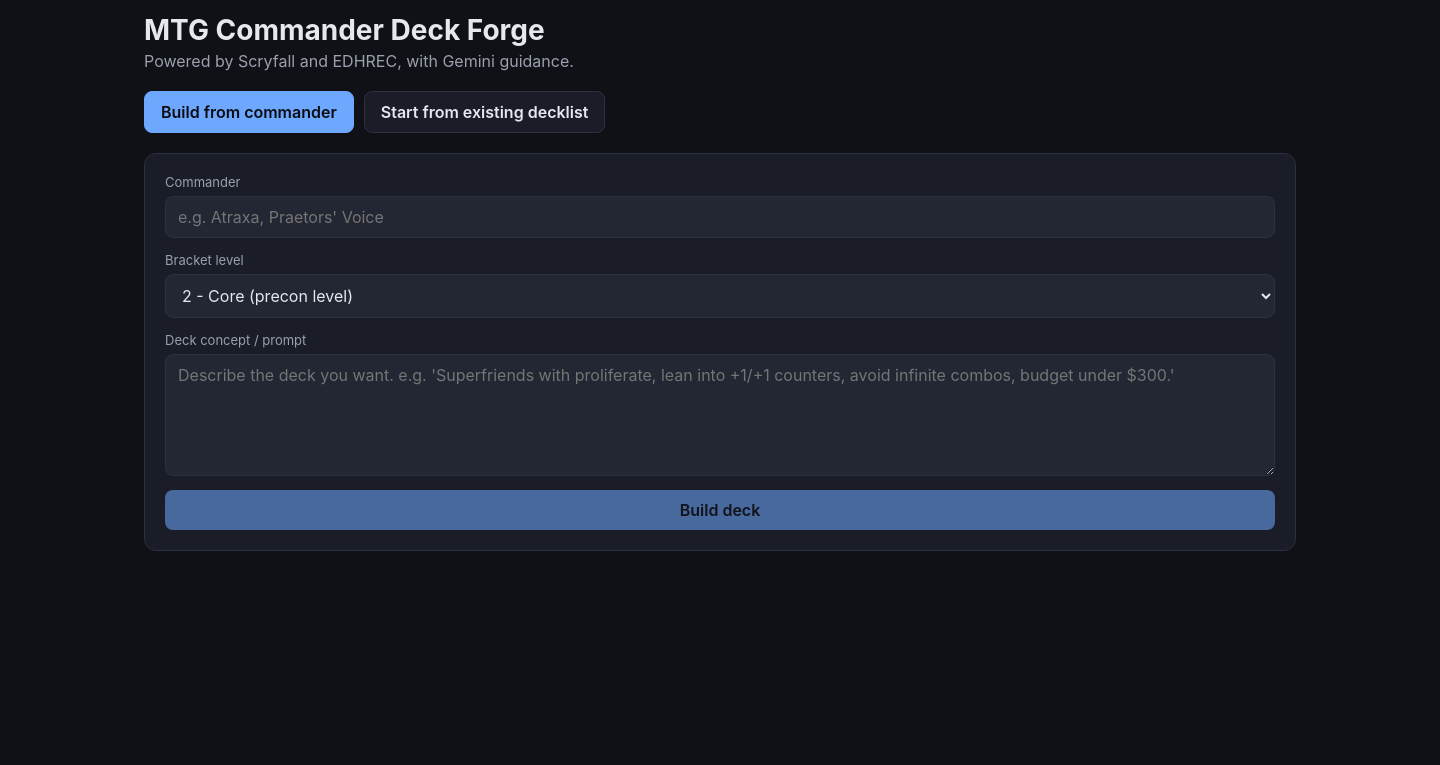
Test case: App › builds a deck and then revamps it, incrementing the version
Expected: the text "Powered by Scryfall and EDHREC, with Gemini guidance." is shown, 144,51 -> 574,71
In the dropdown labelled "Commander": (720, 217) 165,196 -> 1275,238, type "Atraxa"
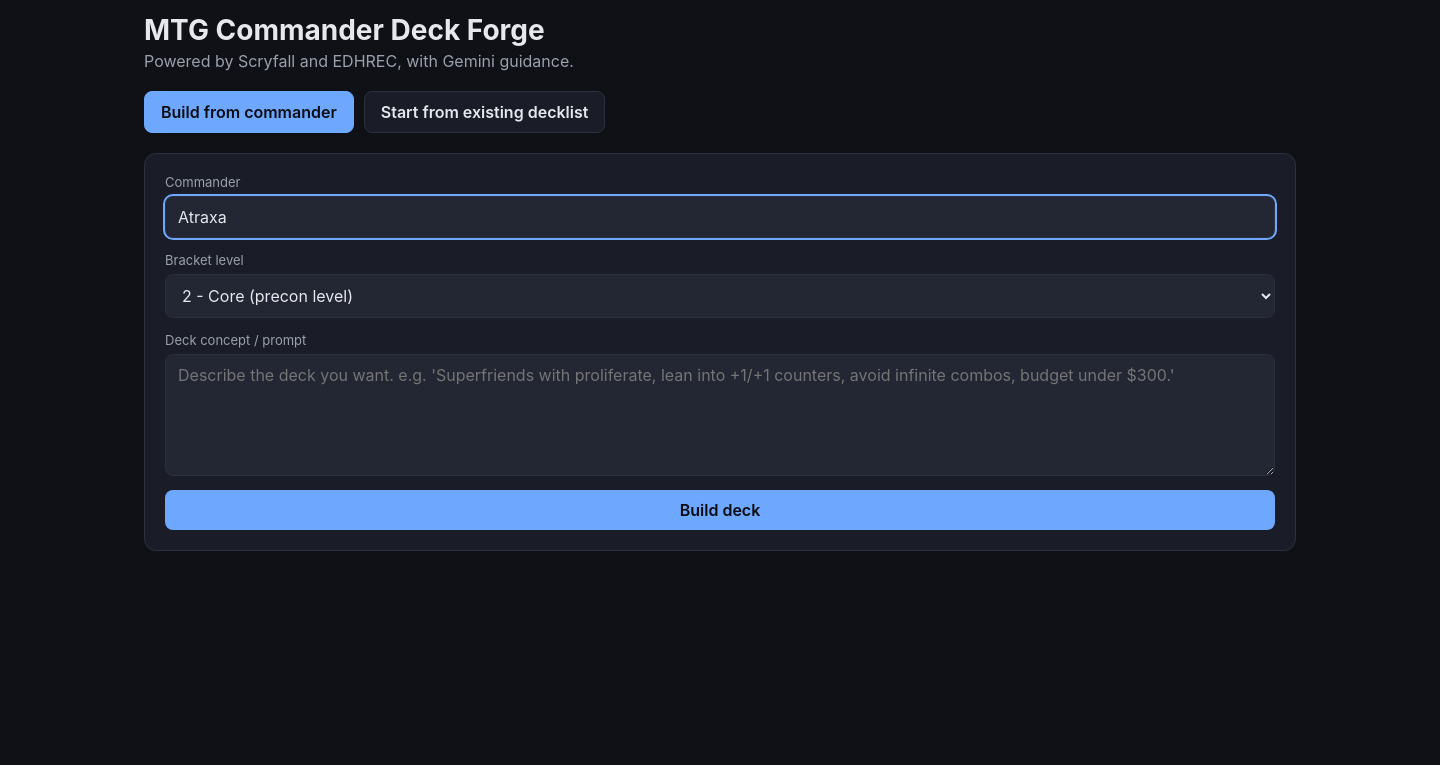
In the text box labelled "Deck concept / prompt": (720, 415) 165,354 -> 1275,476, type "proliferate"
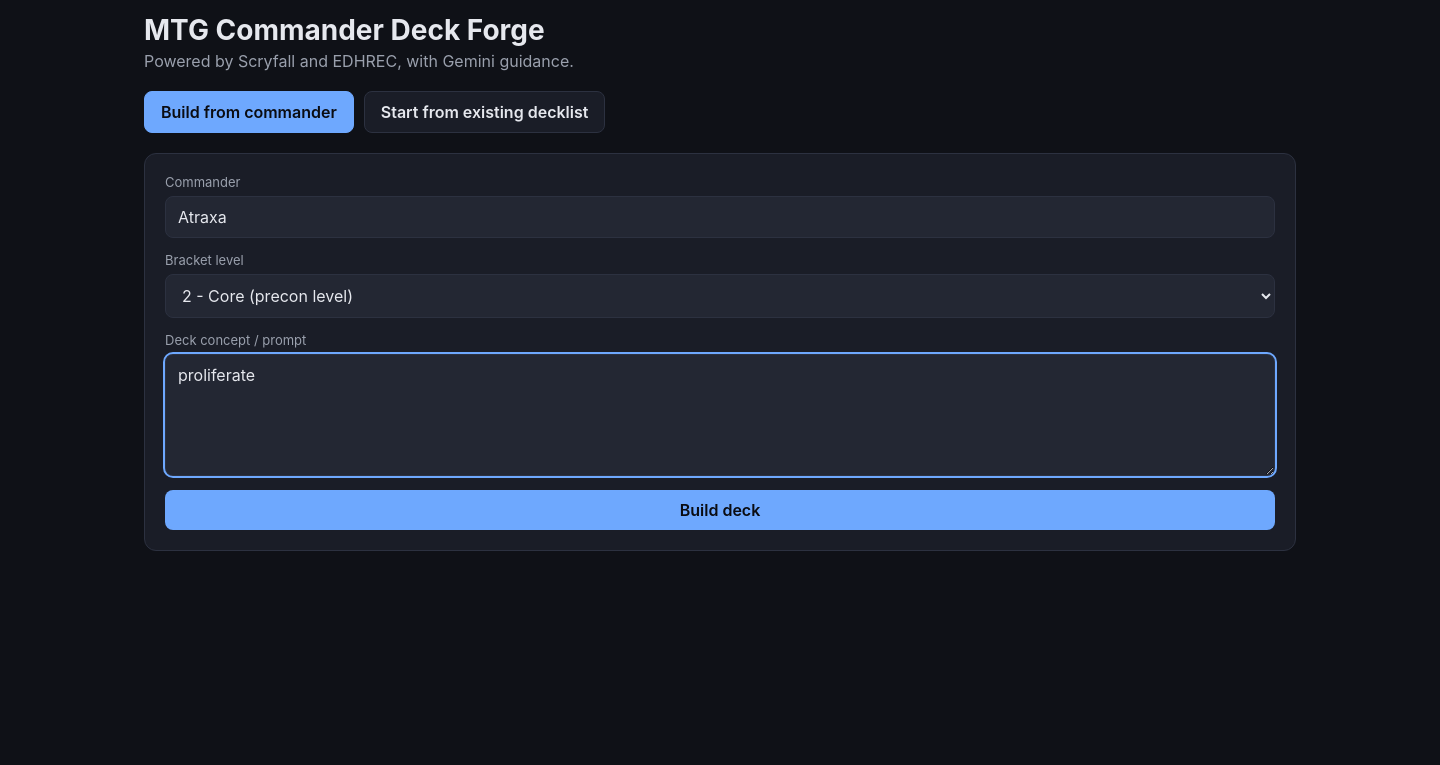
Click the button "Build deck": (720, 510) 165,490 -> 1275,530
(page scrolled)
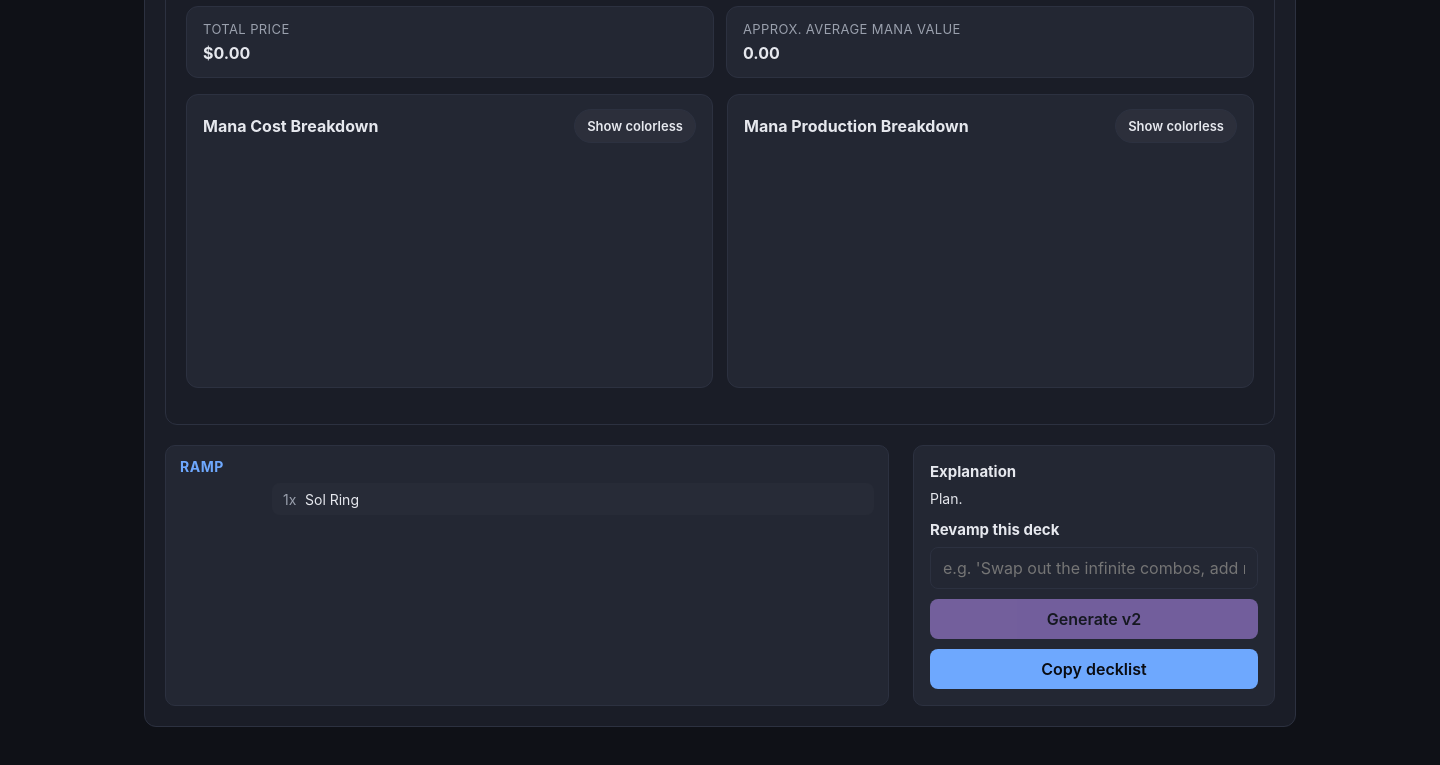
In the field with placeholder "Swap out the infinite combos": (1094, 568) 930,547 -> 1258,589, type "fewer combos"
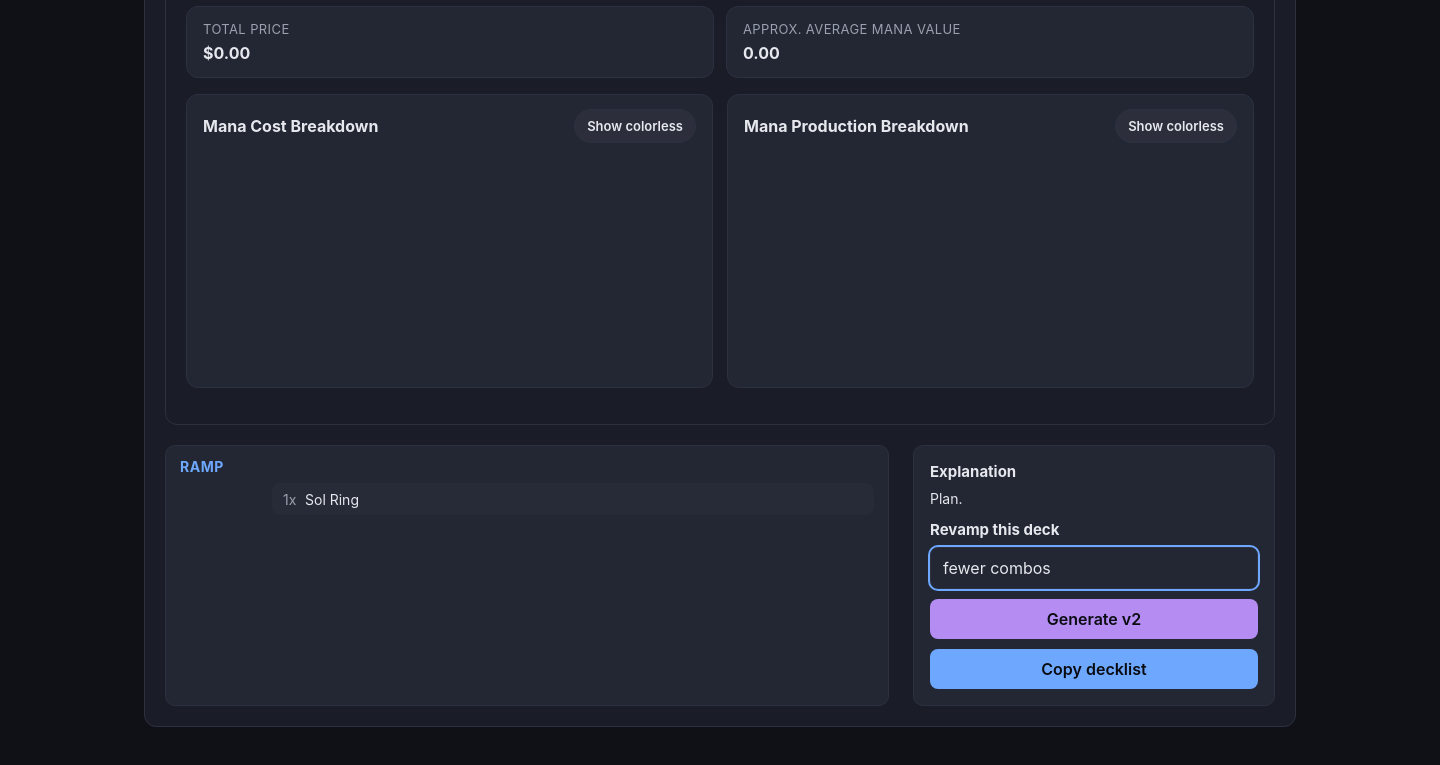
Click the button "Generate v2": (1094, 619) 930,599 -> 1258,639
(page scrolled)
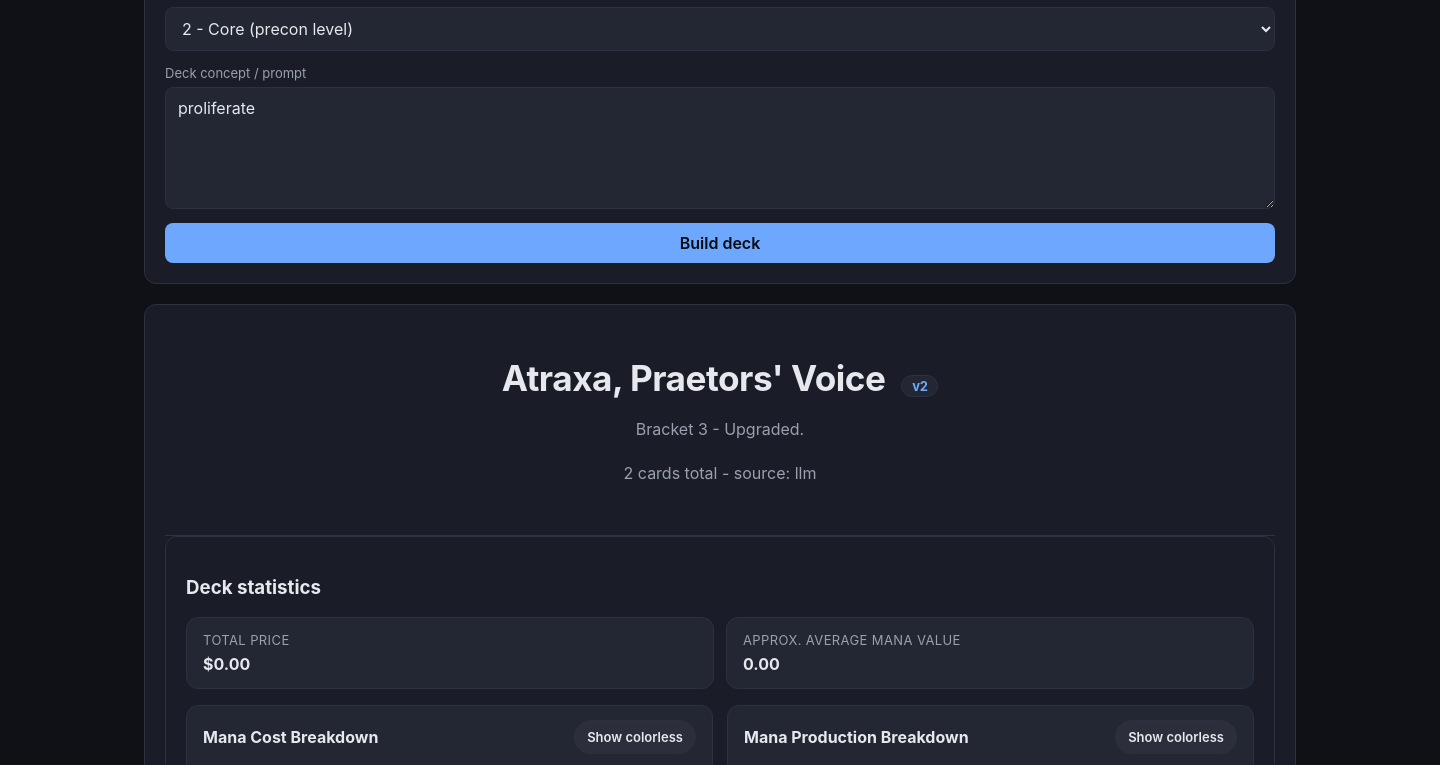
Result: the text "v2" is shown at 901,375 -> 938,397
